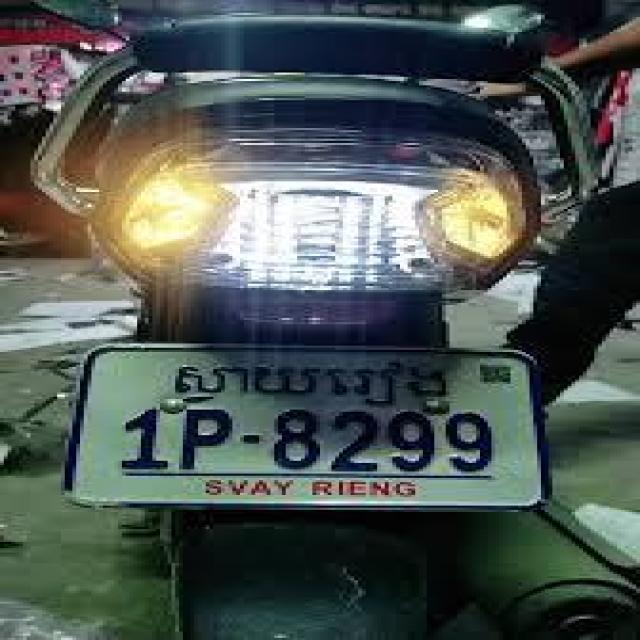Svay_Rieng: (171, 360, 446, 407)
